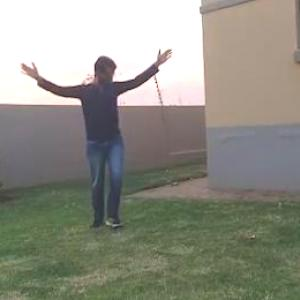takeoff: (13, 32, 174, 222)
